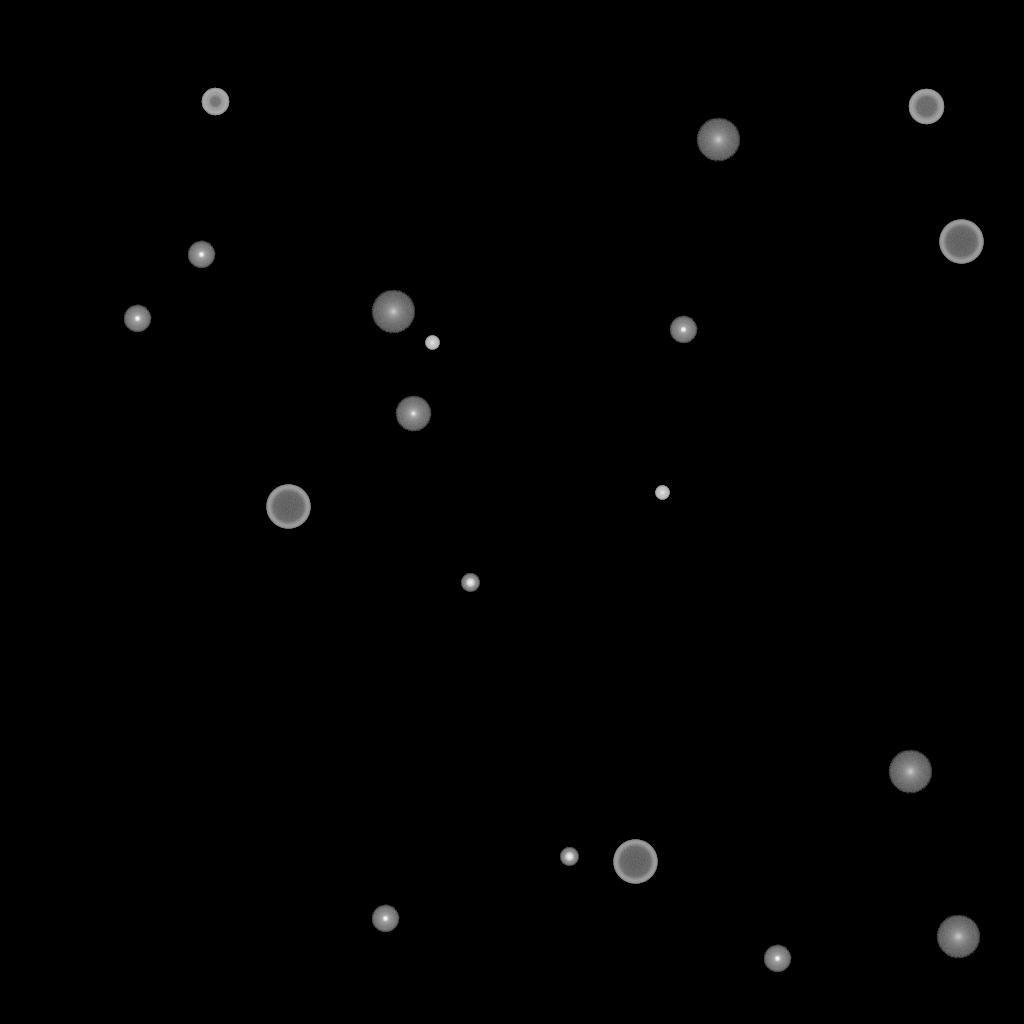depth:-10: (187, 241, 215, 269), (123, 305, 151, 333), (669, 316, 697, 344), (371, 905, 399, 933), (763, 945, 791, 973)
depth:-20: (461, 574, 479, 592), (560, 848, 578, 866)
depth:-30: (655, 486, 669, 500), (425, 336, 439, 350)
depth:-50: (201, 88, 229, 116)
depth:-60: (908, 89, 944, 125)
depth:-70: (939, 220, 983, 264), (266, 485, 310, 529), (613, 840, 657, 884)
depth:0: (395, 396, 431, 432)
depth:10: (696, 118, 740, 162), (936, 915, 980, 959), (371, 290, 415, 334), (888, 750, 932, 794)
